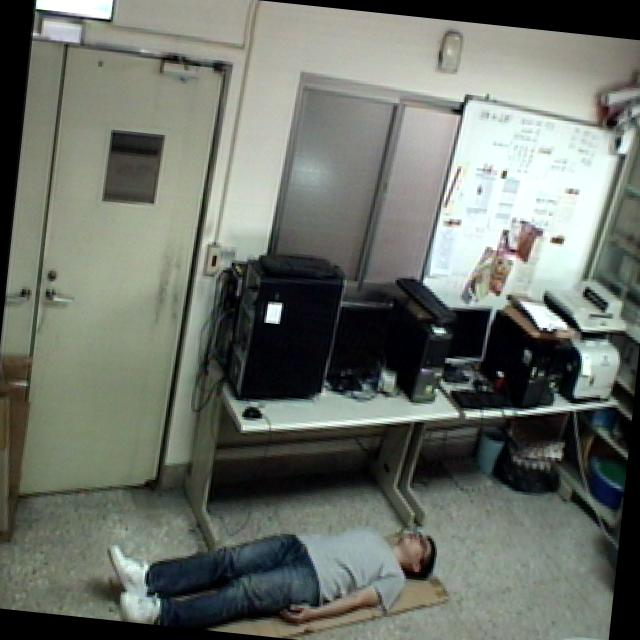lie: (89, 474, 448, 640)
